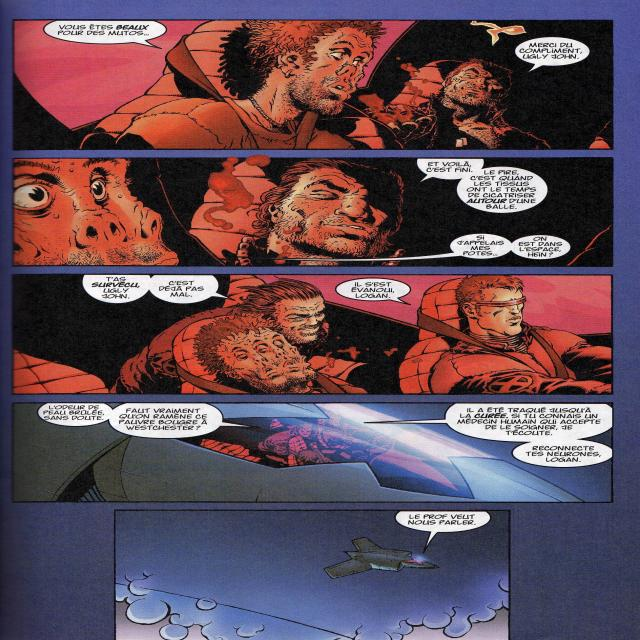comic_panel: (11, 18, 615, 150), (9, 274, 614, 395), (10, 158, 614, 267), (9, 403, 616, 504), (113, 509, 511, 640)
